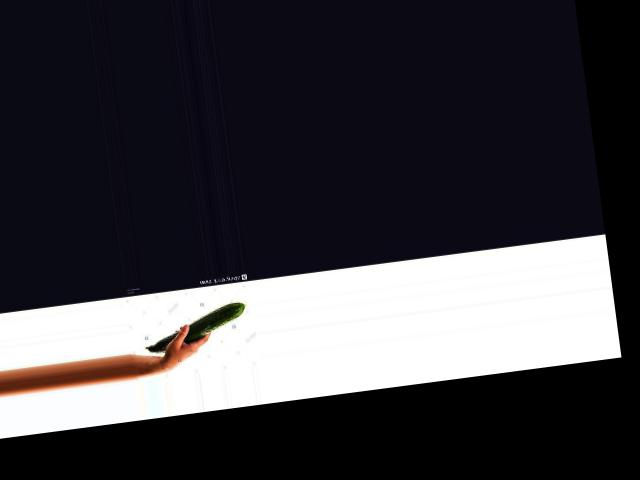cucumber: (140, 301, 249, 354)
